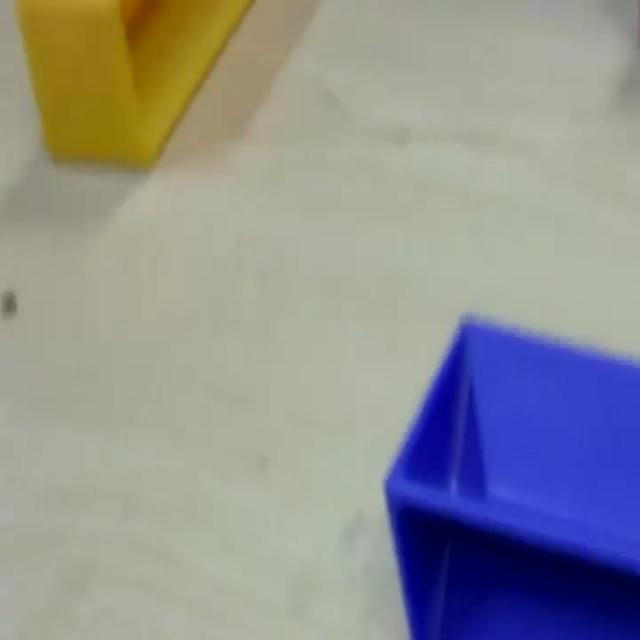blue_block: (382, 311, 638, 637)
yellow_block: (14, 0, 255, 171)
